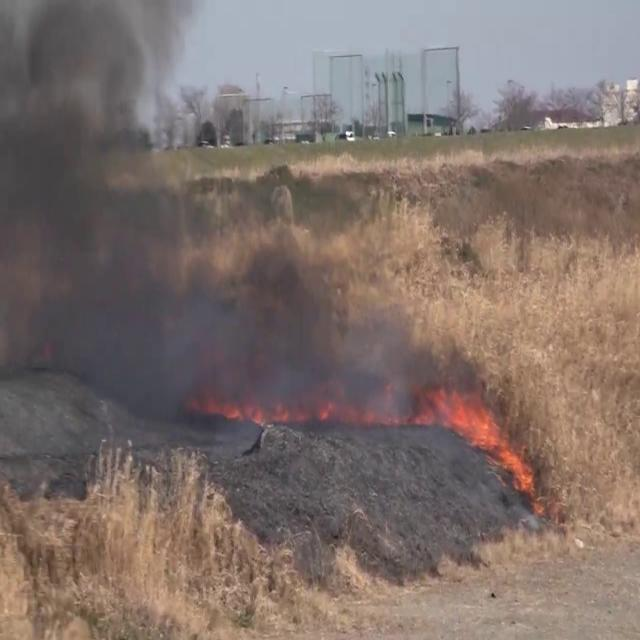Fire: (427, 380, 537, 490)
Smoke: (0, 0, 378, 456)
